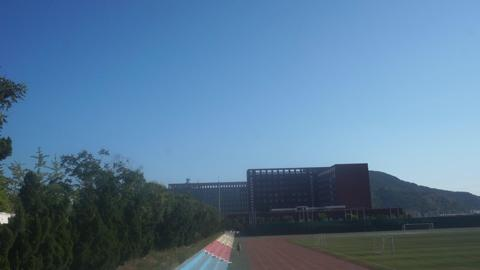UAV: (262, 172, 265, 174)
